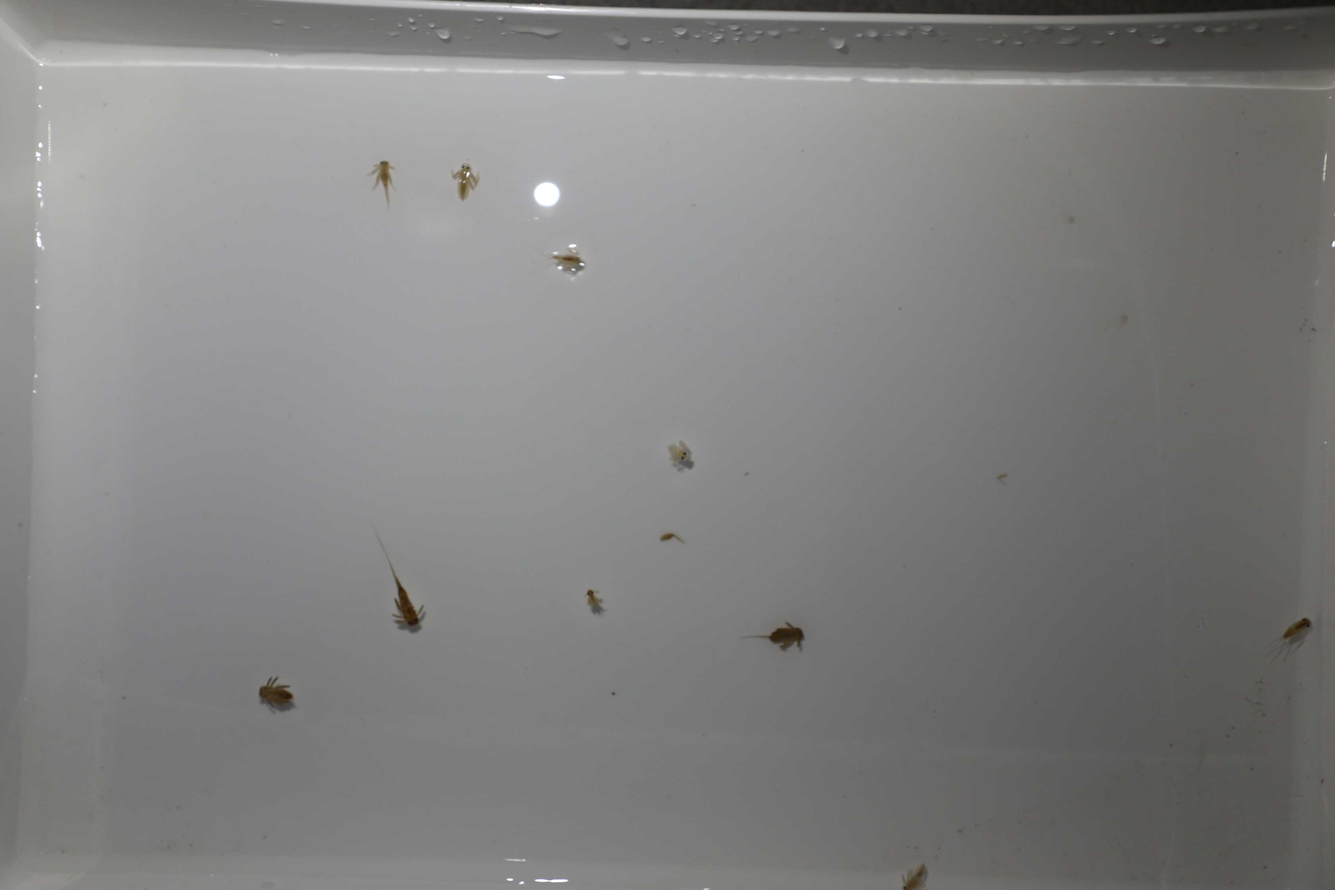Mayfly: (370, 510, 431, 646), (733, 616, 809, 657), (253, 669, 302, 718), (362, 150, 398, 213), (447, 154, 481, 210), (664, 436, 700, 482), (1278, 613, 1318, 649), (576, 578, 608, 616), (547, 248, 591, 274), (892, 867, 936, 887)
